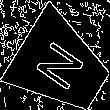N_SE: (32, 36, 92, 96)
